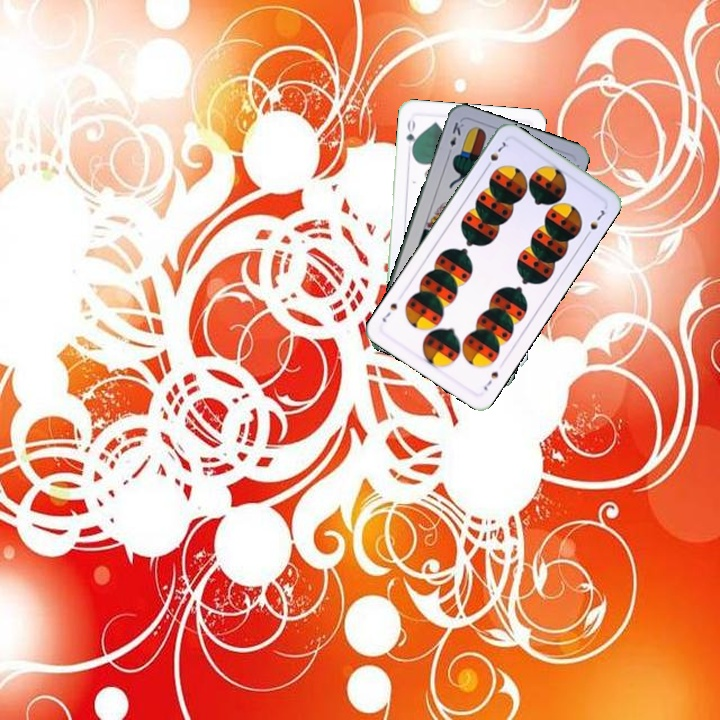EK: (444, 118, 466, 158)
GO: (402, 114, 419, 155)
S7: (481, 137, 511, 172), (479, 367, 501, 393)
